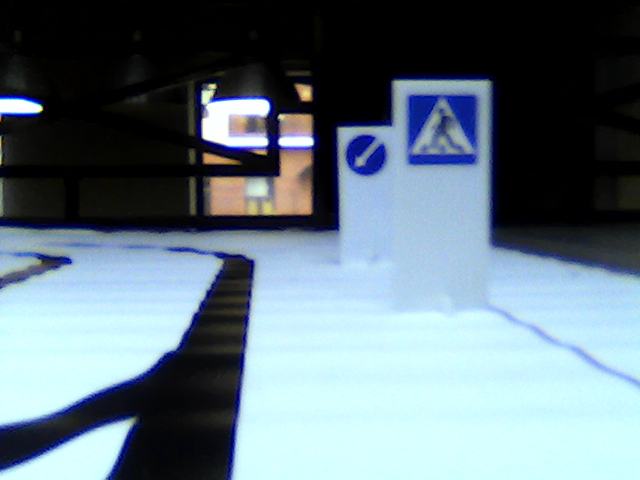pesh: (408, 93, 478, 163)
prep: (345, 131, 387, 178)
